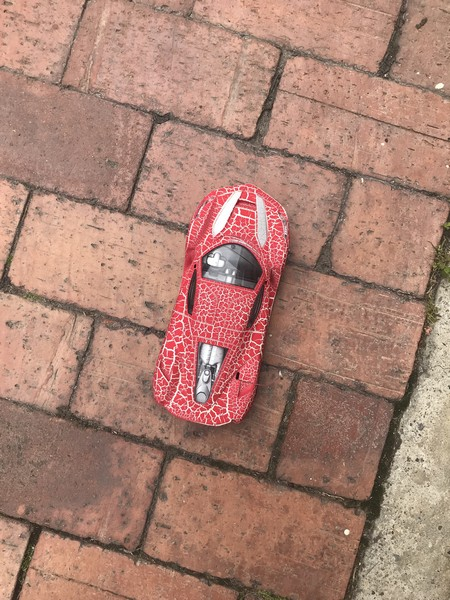RC: (154, 182, 293, 424)
